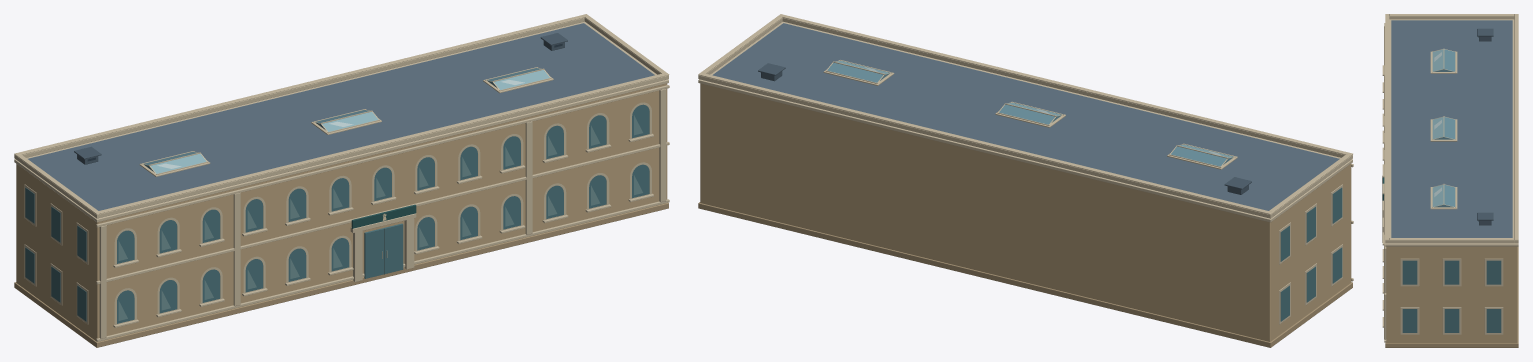
The model's file is alc_museum.glb.
The picture shows the model from 3 angles, left to right: view 1: azimuth 30°, elevation 25°; view 2: azimuth 150°, elevation 25°; view 3: azimuth 270°, elevation 25°; orthographic projection. The views are drawn at different scales.
Visible parts, largest first — view 1: alc_museum; view 2: alc_museum; view 3: alc_museum.
Part boxes in pixels (left/top/right/bottom): alc_museum: left=14, top=14, right=669, bottom=347; alc_museum: left=698, top=14, right=1353, bottom=347; alc_museum: left=1382, top=14, right=1518, bottom=347.
Size of the model in its own units: 40 by 9.18 by 10.22.
